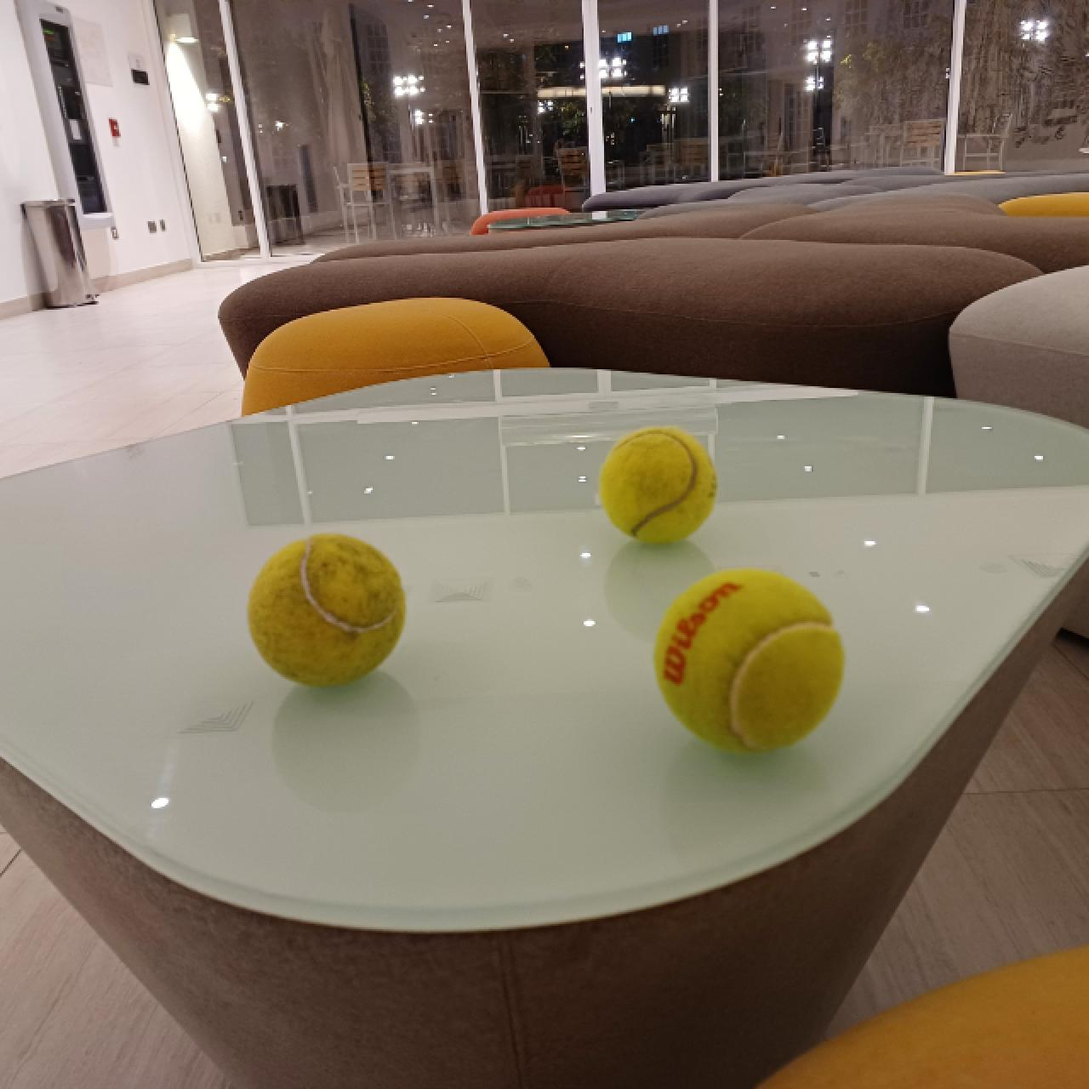tennis-ball: (651, 565, 846, 758), (249, 532, 410, 691), (599, 422, 716, 546)
